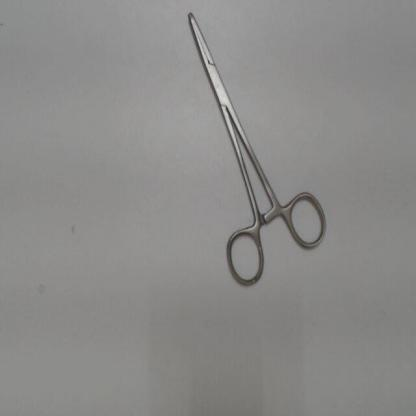Mayo Needle Holder: (182, 2, 333, 296)
